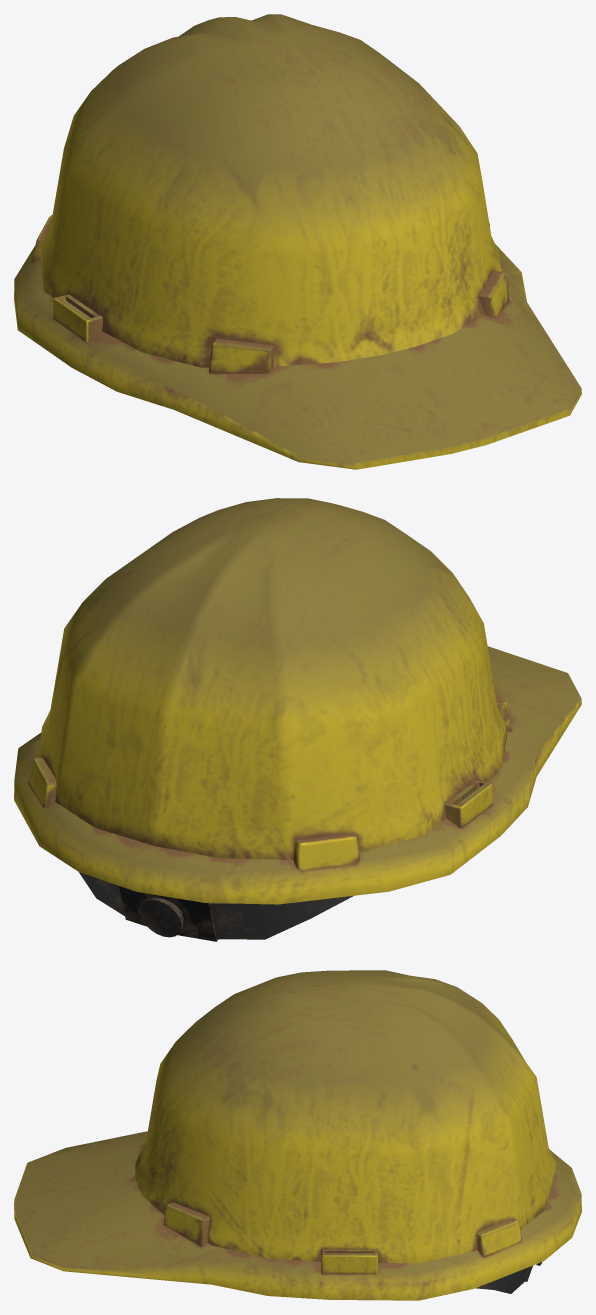
3 views of the same model, one above another, from view 1: azimuth 30°, elevation 25°; view 2: azimuth 150°, elevation 25°; view 3: azimuth 270°, elevation 25° (orthographic). The views are drawn at different scales.
Parts seen in each view (by area): view 1: Hard_hat_4; view 2: Hard_hat_4; view 3: Hard_hat_4.
Part boxes in pixels (x1=…): Hard_hat_4: x1=14, y1=14, x2=581, y2=469; Hard_hat_4: x1=14, y1=498, x2=581, y2=941; Hard_hat_4: x1=14, y1=970, x2=581, y2=1300.
Size of the model in its own units: 2.13 by 1.56 by 2.85.
Materials: 1 (1 with a texture image).
